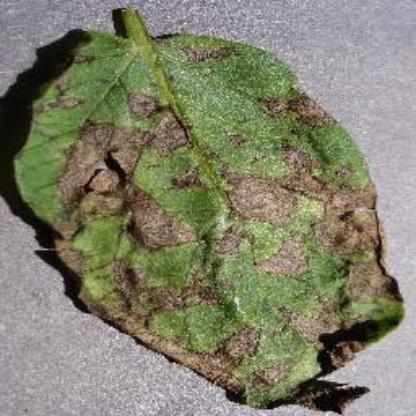Early-Blight: (17, 3, 406, 409)
